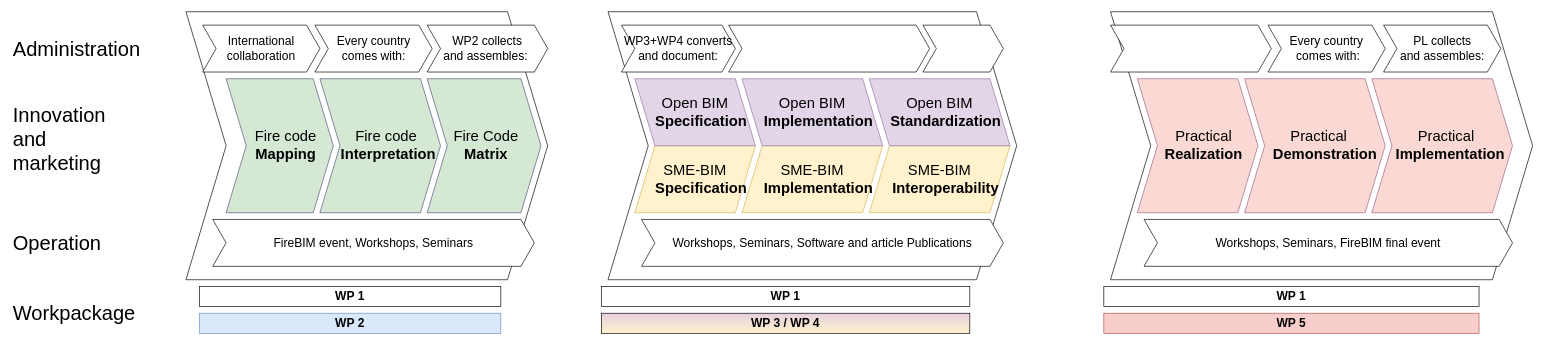
Image size: 1544x345. Some labels were removed from this diagram. The box of each missing label's shape, as (x1, y1, x2, y2) in pixels:
International collaboration:: (1110, 24, 1271, 72)
strategy proposal:: (922, 24, 1003, 72)
WP 3: ontology/exchange format WP 4: frontend/integrations:: (728, 24, 930, 72)
